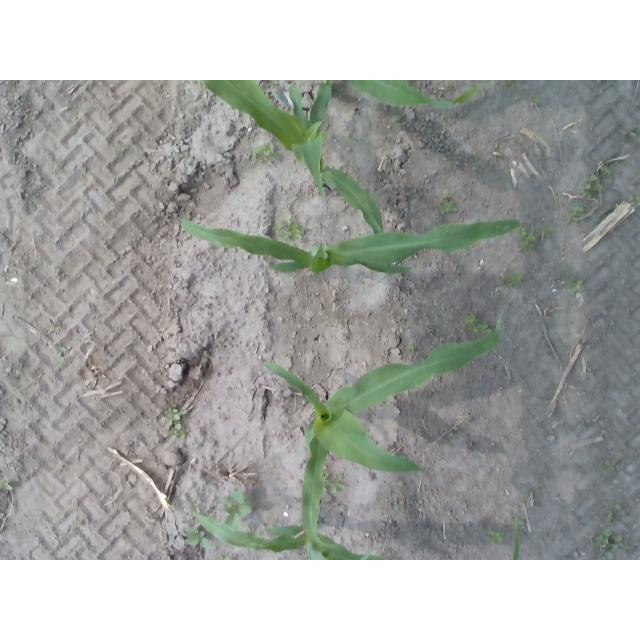Maize: (260, 305, 505, 547), (207, 81, 386, 238), (179, 218, 521, 274), (192, 510, 519, 559), (330, 83, 487, 110)
Weeds: (220, 491, 252, 523), (597, 529, 622, 560), (584, 171, 601, 197), (565, 203, 585, 225), (519, 231, 537, 249), (190, 531, 206, 549), (257, 141, 273, 159), (331, 474, 345, 493), (168, 409, 188, 421), (440, 200, 456, 214), (489, 530, 502, 546), (607, 457, 621, 471), (275, 222, 289, 234), (475, 321, 490, 332), (466, 311, 477, 326), (536, 226, 552, 236), (291, 227, 305, 238), (284, 220, 298, 230), (616, 504, 627, 516), (504, 275, 516, 285), (574, 280, 584, 291), (529, 95, 539, 106), (55, 273, 65, 283), (601, 165, 610, 176), (504, 80, 516, 88), (51, 322, 61, 331), (406, 344, 415, 353), (0, 480, 8, 490), (61, 347, 71, 354), (218, 556, 230, 561), (171, 435, 190, 438)
